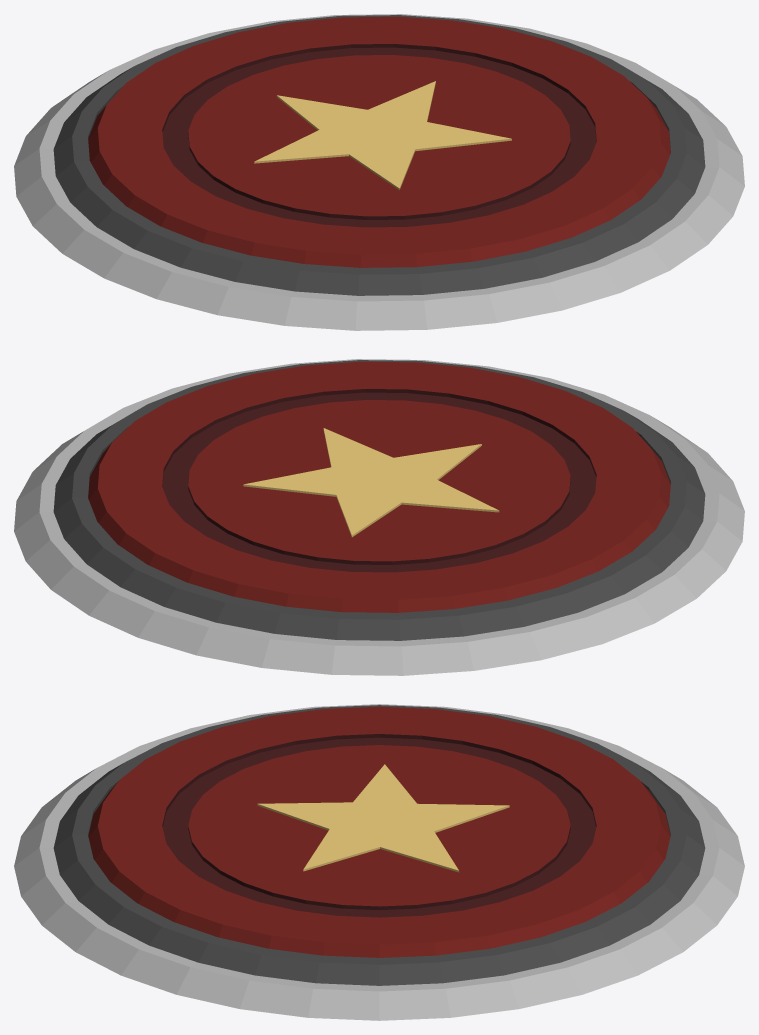
The model's file is RoundPressurePlateStar.fbx.
3 renders of one model, top to bottom at view 1: azimuth 30°, elevation 25°; view 2: azimuth 150°, elevation 25°; view 3: azimuth 270°, elevation 25°, orthographic.
Parts seen in each view (by area): view 1: Round_Pressure_Plate_With_Star_Sign, Round_Pressure_Plate_With_Star_Sign_Base; view 2: Round_Pressure_Plate_With_Star_Sign, Round_Pressure_Plate_With_Star_Sign_Base; view 3: Round_Pressure_Plate_With_Star_Sign, Round_Pressure_Plate_With_Star_Sign_Base.
Part boxes in pixels (box(x1,y1,x2,y2)): Round_Pressure_Plate_With_Star_Sign: box(88, 16, 670, 267); Round_Pressure_Plate_With_Star_Sign_Base: box(14, 14, 744, 330); Round_Pressure_Plate_With_Star_Sign: box(88, 361, 670, 612); Round_Pressure_Plate_With_Star_Sign_Base: box(14, 359, 744, 675); Round_Pressure_Plate_With_Star_Sign: box(88, 706, 670, 957); Round_Pressure_Plate_With_Star_Sign_Base: box(14, 704, 744, 1020).
Size of the model in its own units: 202 by 13 by 202.
